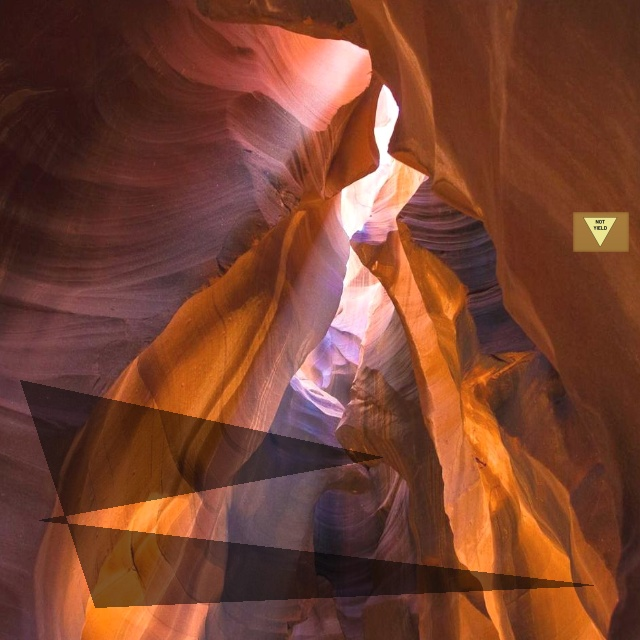NOT_YIELD: (583, 217, 618, 247)
